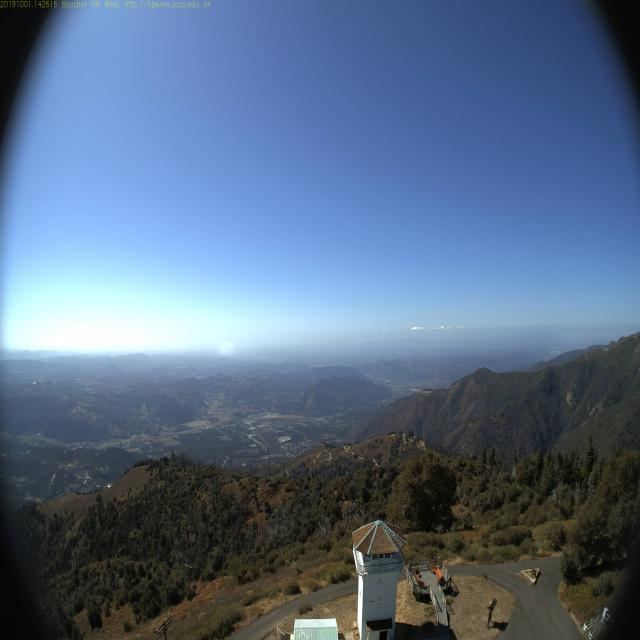smoke: (212, 335, 236, 360)
